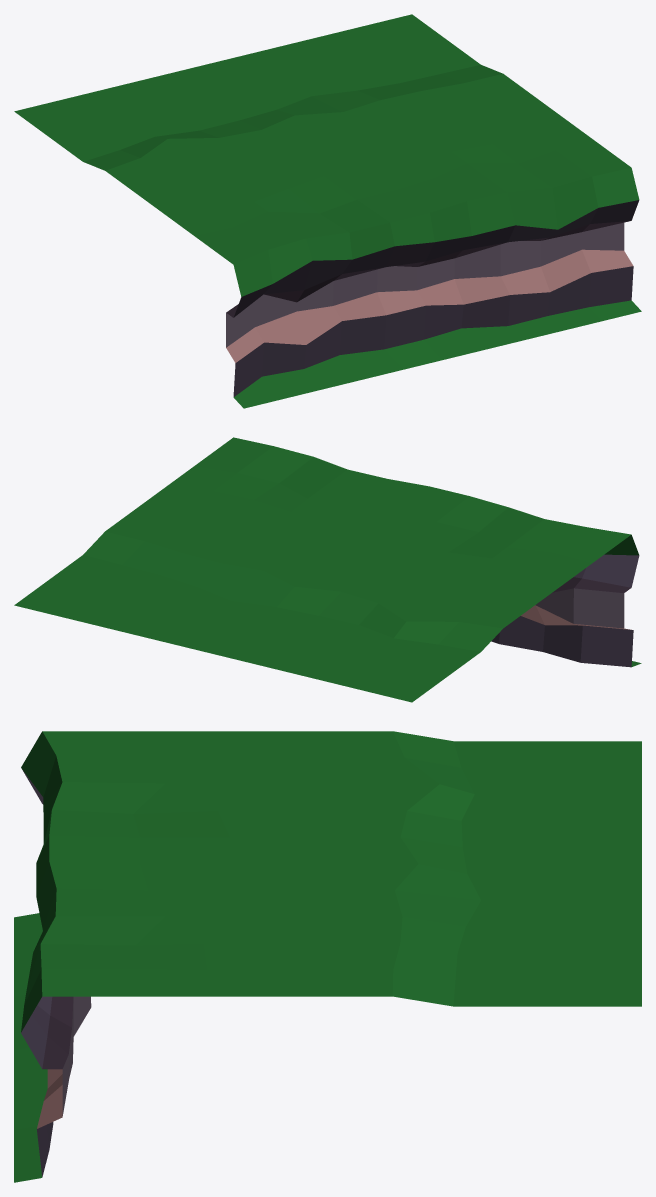
File: Barranco_a_Cesped.fbx
The picture shows the model from 3 angles, top to bottom: view 1: azimuth 30°, elevation 25°; view 2: azimuth 150°, elevation 25°; view 3: azimuth 270°, elevation 25°; orthographic projection. The views are drawn at different scales.
Visible parts, largest first — view 1: Barranco_a_Cesped; view 2: Barranco_a_Cesped; view 3: Barranco_a_Cesped.
Part boxes in pixels (<box>): Barranco_a_Cesped: <box>14,14,641,408</box>; Barranco_a_Cesped: <box>14,437,641,702</box>; Barranco_a_Cesped: <box>14,731,641,1182</box>.
Bounding box in the file's own units: 2000 × 662 × 2000.
